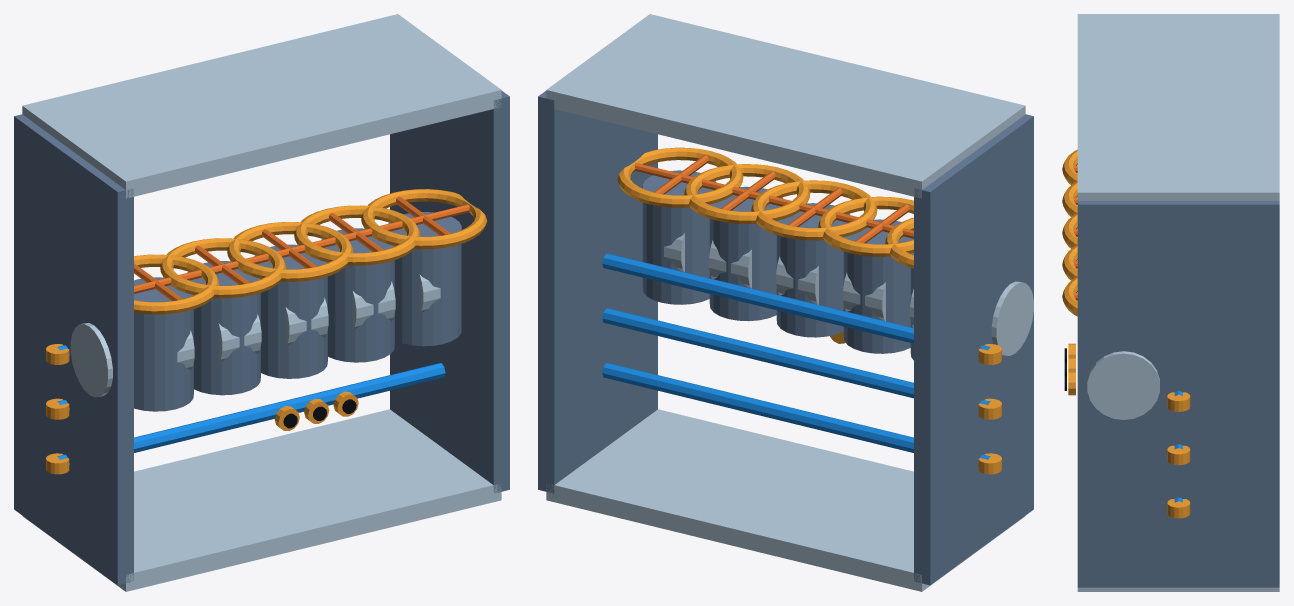
File: 47_L89_WaterDistributionValveManifold.fbx
3 views of the same model, side by side, from view 1: azimuth 30°, elevation 25°; view 2: azimuth 150°, elevation 25°; view 3: azimuth 270°, elevation 25° (orthographic). The views are drawn at different scales.
Parts seen in each view (by area): view 1: L87_WaterDistributionValveManifold_Part_0000, L87_WaterDistributionValveManifold_Part_0001, L87_WaterDistributionValveManifold_Part_0002, L87_WaterDistributionValveManifold_Part_0006, L87_WaterDistributionValveManifold_Part_0003, L87_WaterDistributionValveManifold_Part_0004, L87_WaterDistributionValveManifold_Part_0005; view 2: L87_WaterDistributionValveManifold_Part_0000, L87_WaterDistributionValveManifold_Part_0001, L87_WaterDistributionValveManifold_Part_0006, L87_WaterDistributionValveManifold_Part_0002, L87_WaterDistributionValveManifold_Part_0004, L87_WaterDistributionValveManifold_Part_0003, L87_WaterDistributionValveManifold_Part_0005; view 3: L87_WaterDistributionValveManifold_Part_0000, L87_WaterDistributionValveManifold_Part_0001, L87_WaterDistributionValveManifold_Part_0002, L87_WaterDistributionValveManifold_Part_0004.
Boxes of the visible parts, x1,y1,x2,y2 form: L87_WaterDistributionValveManifold_Part_0000: (14,91,509,585); L87_WaterDistributionValveManifold_Part_0001: (22,14,501,591); L87_WaterDistributionValveManifold_Part_0002: (46,189,487,474); L87_WaterDistributionValveManifold_Part_0006: (57,345,445,465); L87_WaterDistributionValveManifold_Part_0003: (134,196,469,301); L87_WaterDistributionValveManifold_Part_0004: (227,222,353,281); L87_WaterDistributionValveManifold_Part_0005: (246,229,335,268); L87_WaterDistributionValveManifold_Part_0000: (538,91,1033,585); L87_WaterDistributionValveManifold_Part_0001: (546,14,1033,591); L87_WaterDistributionValveManifold_Part_0006: (602,253,990,465); L87_WaterDistributionValveManifold_Part_0002: (617,147,1001,474); L87_WaterDistributionValveManifold_Part_0004: (751,180,877,240); L87_WaterDistributionValveManifold_Part_0003: (634,155,913,243); L87_WaterDistributionValveManifold_Part_0005: (768,188,858,226); L87_WaterDistributionValveManifold_Part_0000: (1077,201,1279,587); L87_WaterDistributionValveManifold_Part_0001: (1077,14,1279,591); L87_WaterDistributionValveManifold_Part_0002: (1062,149,1190,518); L87_WaterDistributionValveManifold_Part_0004: (1062,213,1077,248).
Size of the model in its own units: 263 by 240 by 118.
